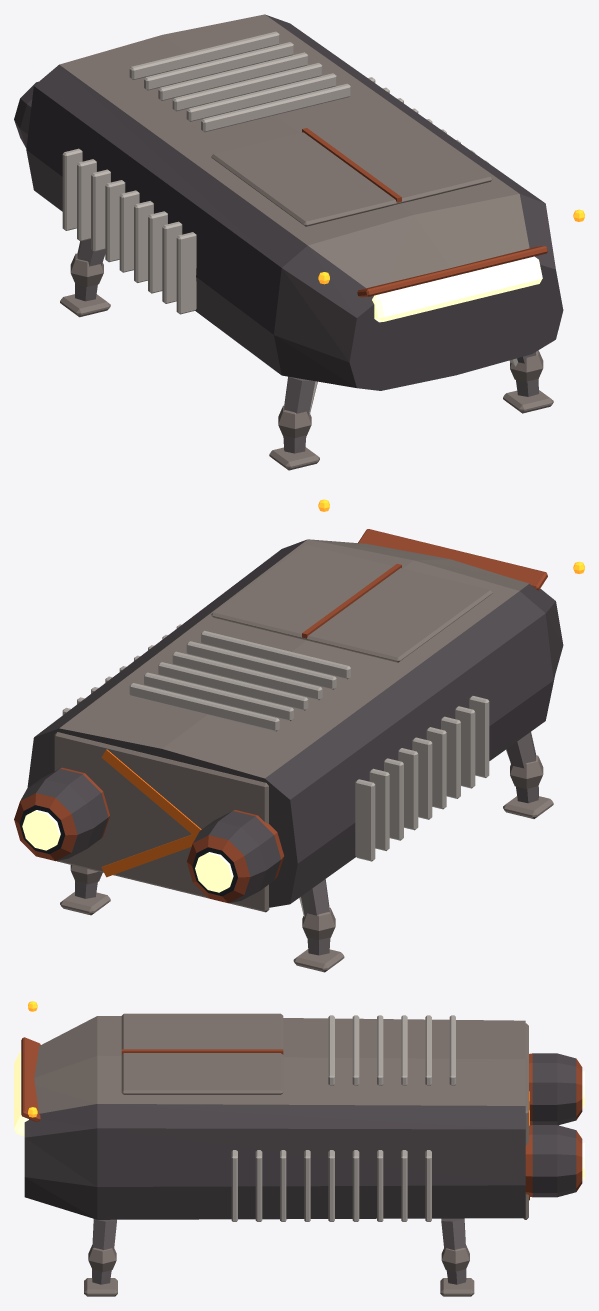
Rendered from emb-f_gelandet.glb.
3 views of the same model, one above another, from view 1: azimuth 30°, elevation 25°; view 2: azimuth 150°, elevation 25°; view 3: azimuth 270°, elevation 25° (orthographic). The views are drawn at different scales.
Visible parts, largest first — view 1: rumpf, kühlflächen, frachtklappe, cockpit, landebein_2, landebein_4, landebein_1, triebwerk_r; view 2: rumpf, kühlflächen, frachtklappe, rampe, triebwerk_r, triebwerk_l, landebein_4, cockpit, landebein_2, landebein_3; view 3: rumpf, frachtklappe, kühlflächen, triebwerk_l, triebwerk_r, landebein_3, landebein_1, cockpit, rampe.
Boxes of the visible parts, x1,y1,x2,y2 form: rumpf: (26, 14, 563, 390); kühlflächen: (62, 31, 489, 314); frachtklappe: (211, 109, 492, 226); cockpit: (357, 246, 547, 322); landebein_2: (269, 376, 319, 470); landebein_4: (60, 239, 110, 317); landebein_1: (503, 350, 553, 413); triebwerk_r: (14, 81, 38, 148); rumpf: (27, 539, 563, 907); kühlflächen: (62, 624, 489, 861); frachtklappe: (211, 545, 492, 662); rampe: (54, 732, 269, 912); triebwerk_r: (187, 810, 284, 903); triebwerk_l: (14, 767, 109, 861); landebein_4: (293, 879, 344, 972); cockpit: (358, 529, 547, 590); landebein_2: (503, 732, 553, 818); landebein_3: (60, 865, 110, 915); rumpf: (24, 1016, 525, 1219); frachtklappe: (121, 1013, 283, 1094); kühlflächen: (231, 1015, 455, 1221); triebwerk_l: (525, 1125, 584, 1197); triebwerk_r: (529, 1053, 584, 1125); landebein_3: (440, 1218, 474, 1296); landebein_1: (84, 1219, 117, 1296); cockpit: (14, 1037, 40, 1136); rampe: (523, 1023, 529, 1219).
Size of the model in its own units: 0.0945 by 0.0672 by 0.1767.
